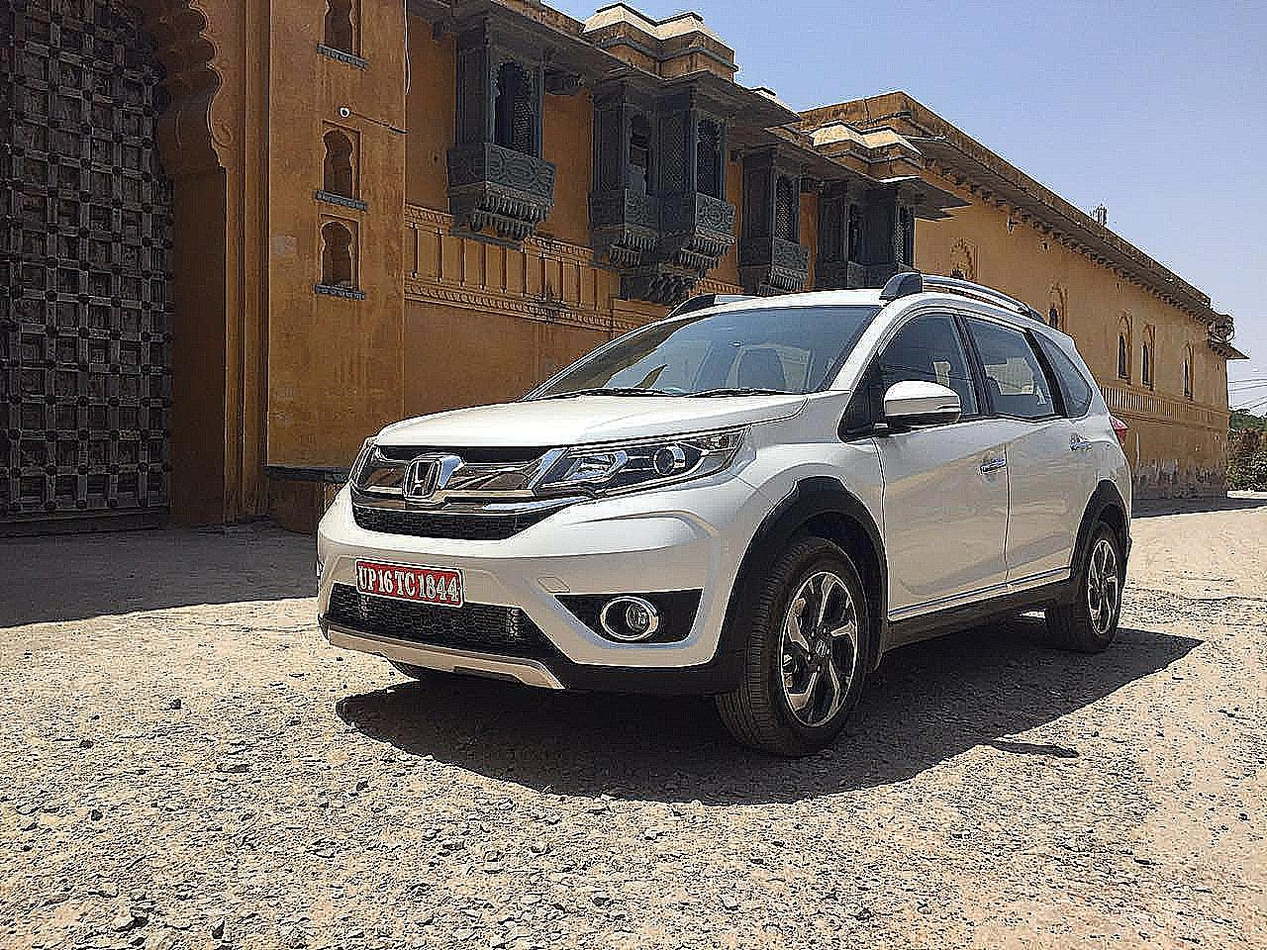Car hood: (368, 384, 809, 454)
Fender - -F-L-: (726, 383, 889, 558)
Fender - -R-L-: (1056, 356, 1136, 533)
Front bumper: (309, 467, 771, 694)
Headlight - -L-: (528, 421, 751, 502)
Passenger-s door - -F-L-: (849, 279, 1011, 628)
Passenger-s door - -R-L-: (952, 295, 1081, 626)
Rear light - -L-: (875, 533, 1093, 661)
Side mirror - -L-: (861, 376, 965, 447)
